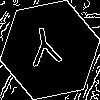Y: (25, 25, 65, 76)
